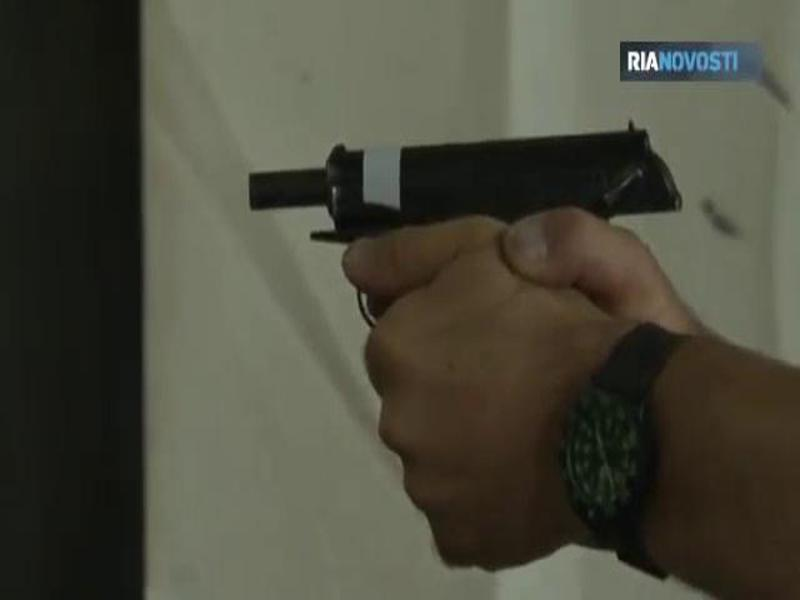Pistola: (245, 106, 687, 373)
